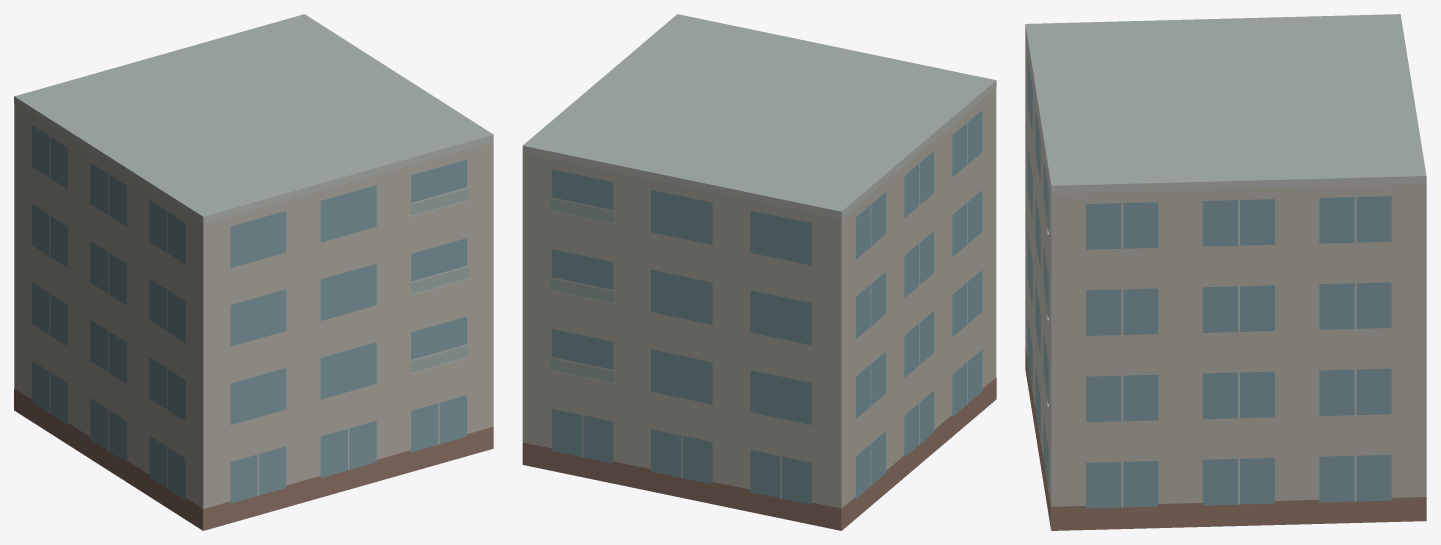
Rendered from survey-upis-32696749.glb.
3 renders of one model, left to right at view 1: azimuth 30°, elevation 25°; view 2: azimuth 150°, elevation 25°; view 3: azimuth 270°, elevation 25°, orthographic. The views are drawn at different scales.
Parts seen in each view (by area): view 1: survey-upis-32696749.tmp; view 2: survey-upis-32696749.tmp; view 3: survey-upis-32696749.tmp.
Part boxes in pixels (box(x1,y1,x2,y2)): survey-upis-32696749.tmp: box(14, 14, 493, 530); survey-upis-32696749.tmp: box(522, 14, 996, 530); survey-upis-32696749.tmp: box(1025, 14, 1426, 530).
Size of the model in its own units: 11.28 by 10.55 by 11.13.
